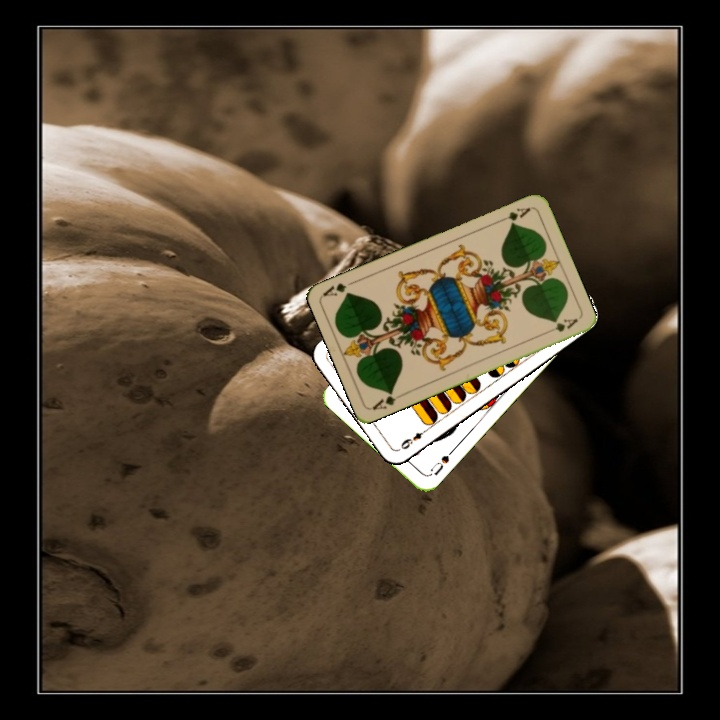E9: (396, 424, 431, 452)
GA: (369, 387, 407, 413), (495, 204, 533, 227)
SU: (425, 445, 456, 479)
